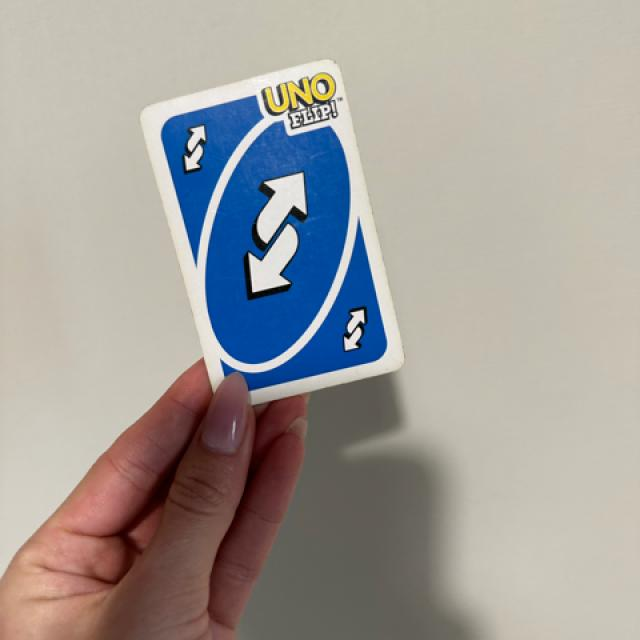lbluerevers-20: (164, 104, 237, 192)
